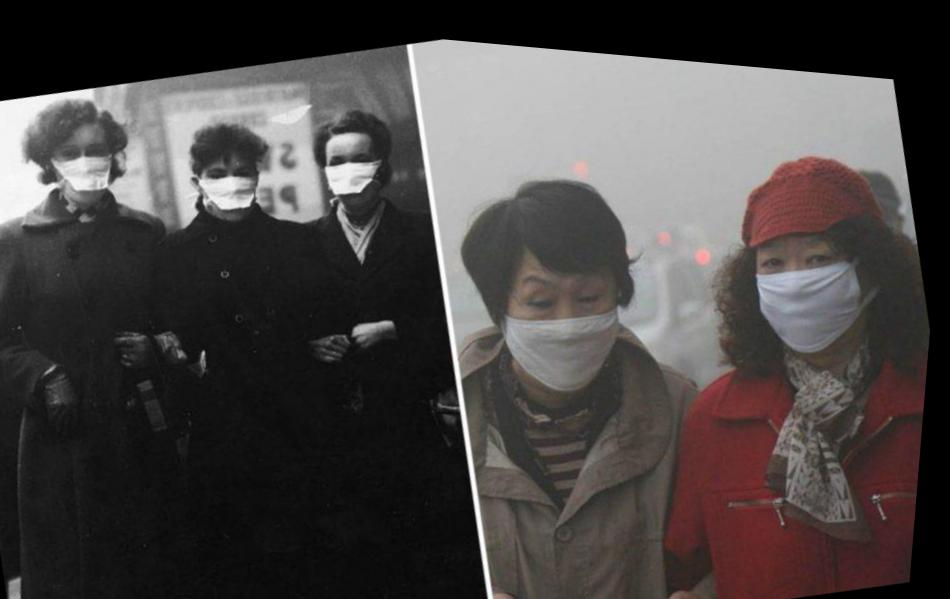OK: (497, 248, 643, 398), (748, 205, 883, 352)
WRONG: (46, 133, 122, 210), (197, 148, 271, 225), (323, 132, 391, 213)
